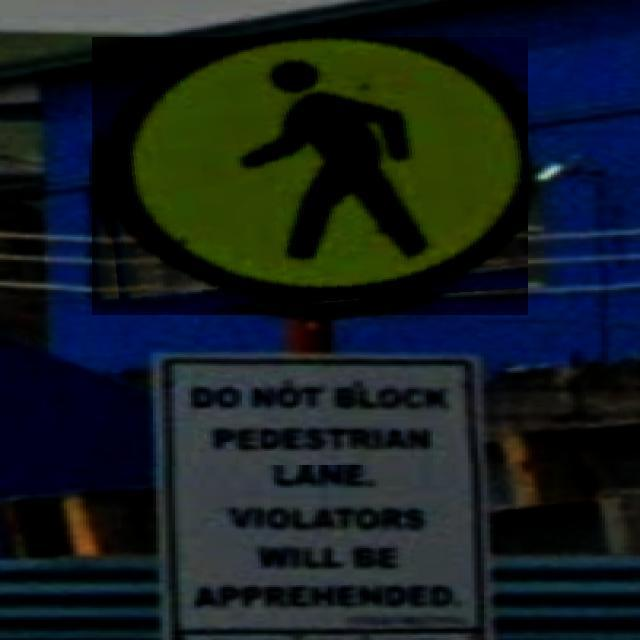pedestrian crossing: (93, 37, 529, 315)
